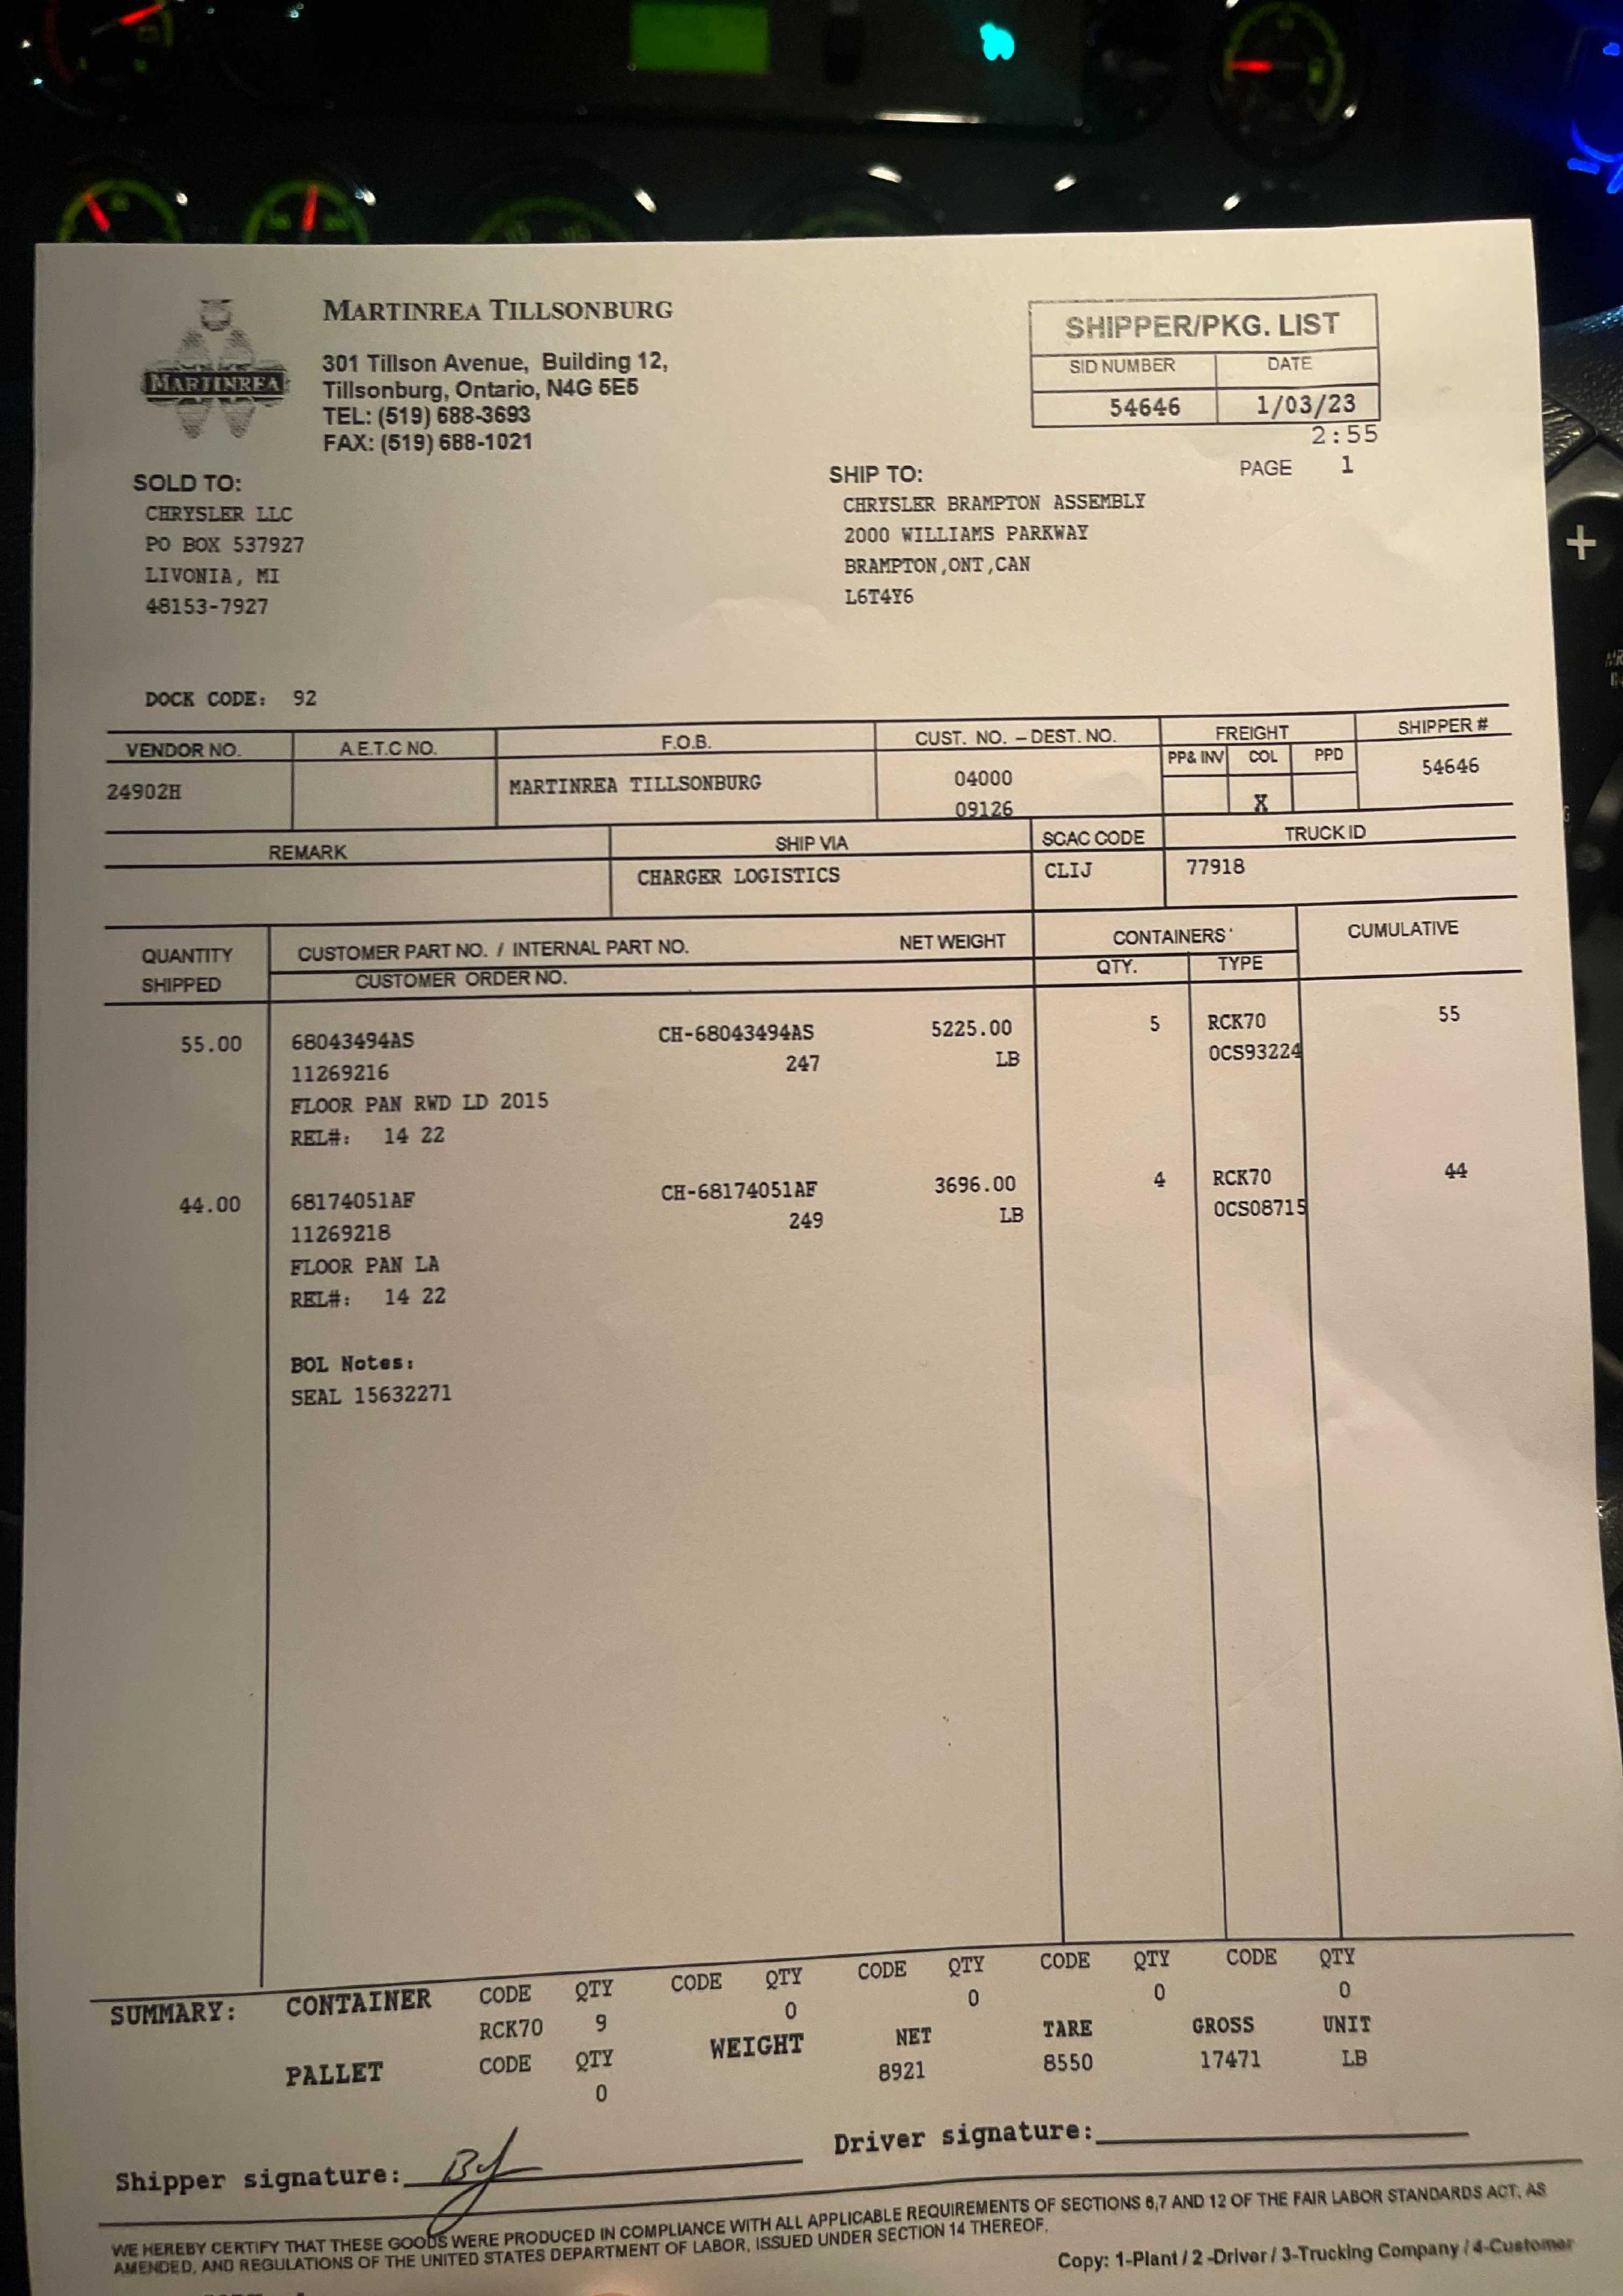B_Paragraph: (285, 1936, 1381, 2108), (107, 2180, 1553, 2275), (827, 456, 1154, 613), (318, 348, 674, 467), (123, 465, 327, 628), (1059, 2224, 1583, 2278), (1054, 355, 1367, 421), (146, 678, 323, 718), (1231, 453, 1381, 490)
B_SubTitle: (111, 2147, 402, 2206), (831, 2117, 1094, 2168), (102, 1994, 241, 2038)
B_Table: (100, 704, 1551, 1934)
B_Title: (323, 293, 680, 332), (1054, 304, 1345, 349)
